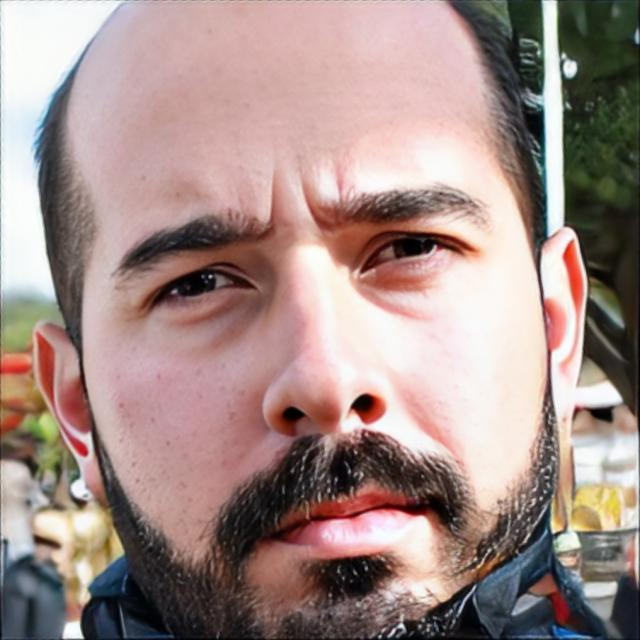anger: (81, 72, 542, 640), (560, 548, 579, 568)
